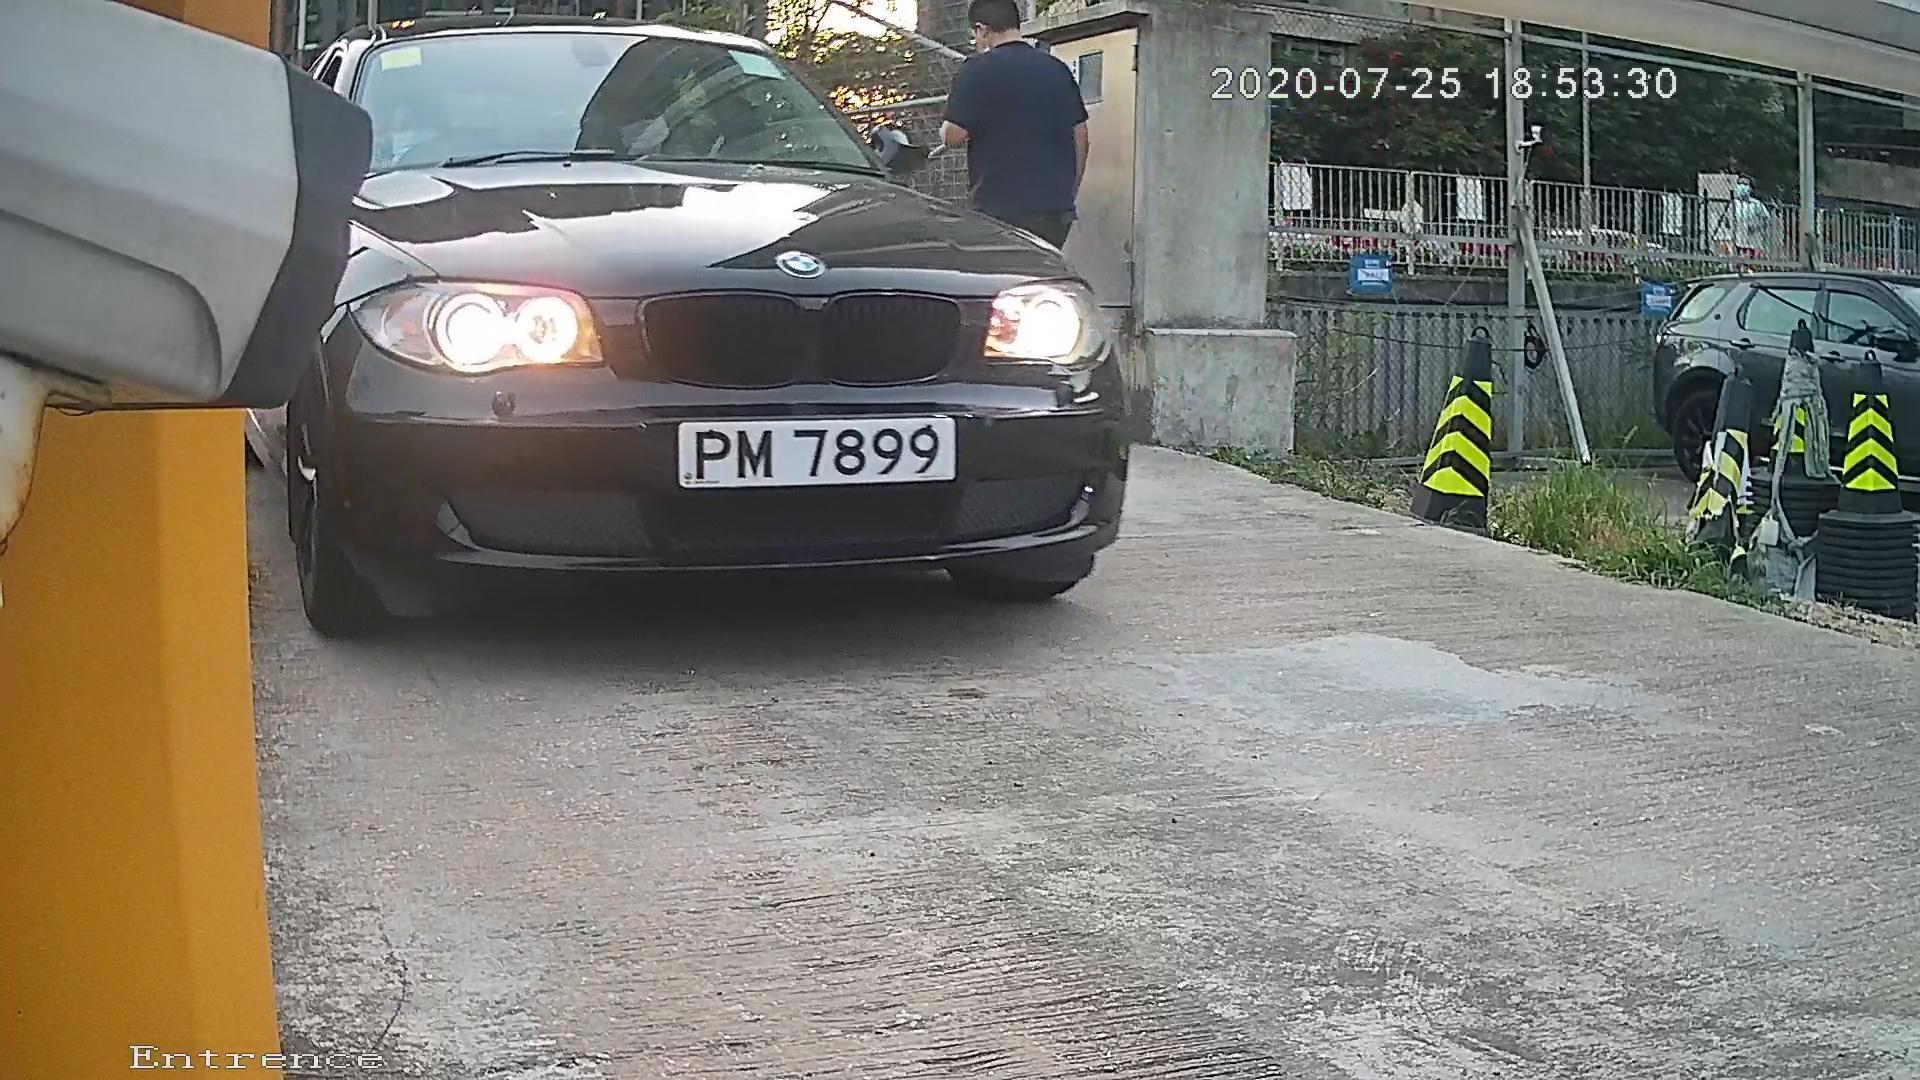privatecar: (232, 29, 1303, 647)
